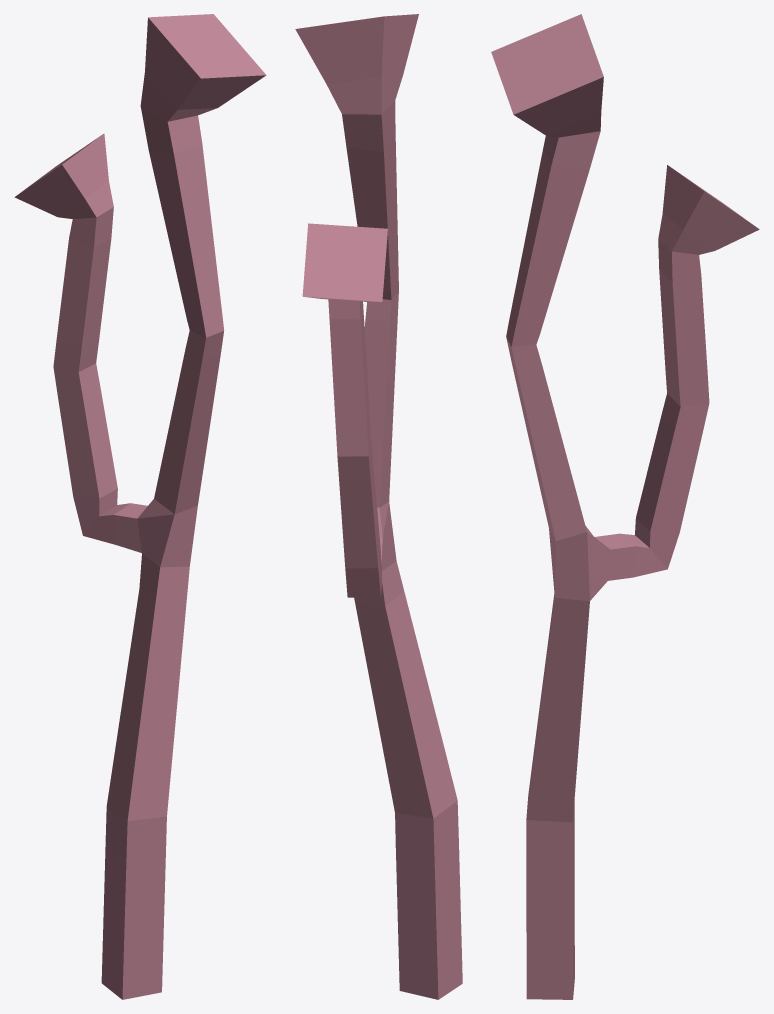
File: plantdemort.fbx
3 views of the same model, side by side, from view 1: azimuth 30°, elevation 25°; view 2: azimuth 150°, elevation 25°; view 3: azimuth 270°, elevation 25° (orthographic). The views are drawn at different scales.
Visible parts, largest first — view 1: AlienPlantA1; view 2: AlienPlantA1; view 3: AlienPlantA1.
Boxes of the visible parts, box(x1,y1,x2,y2) form: AlienPlantA1: box(14, 14, 266, 999); AlienPlantA1: box(295, 14, 462, 999); AlienPlantA1: box(491, 14, 759, 999).
Bounding box in the file's own units: 79.51 × 477 × 117.
